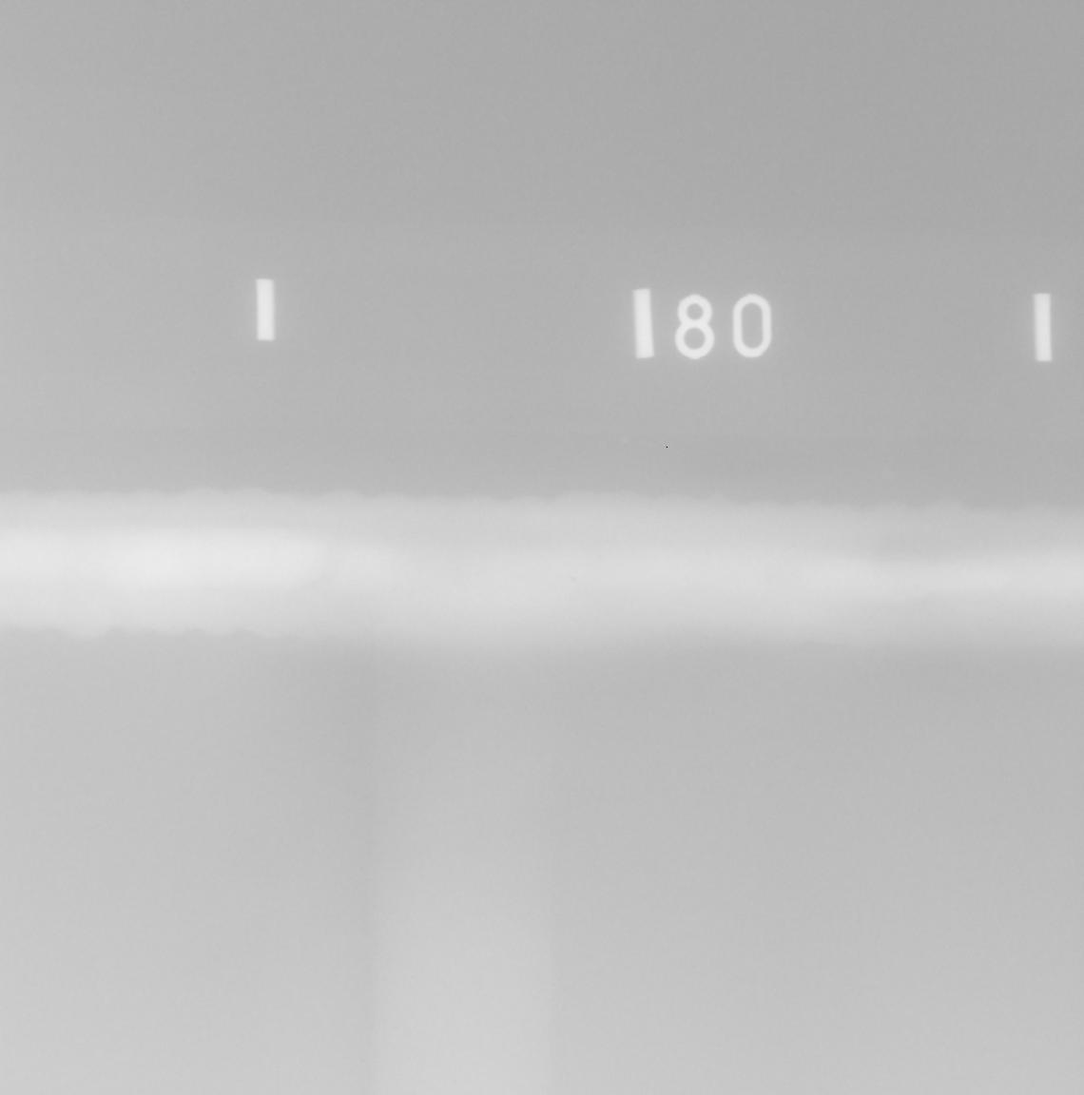Inclusion: (915, 582, 919, 593)
Pore/Porosity: (570, 576, 576, 581), (456, 566, 462, 570)
